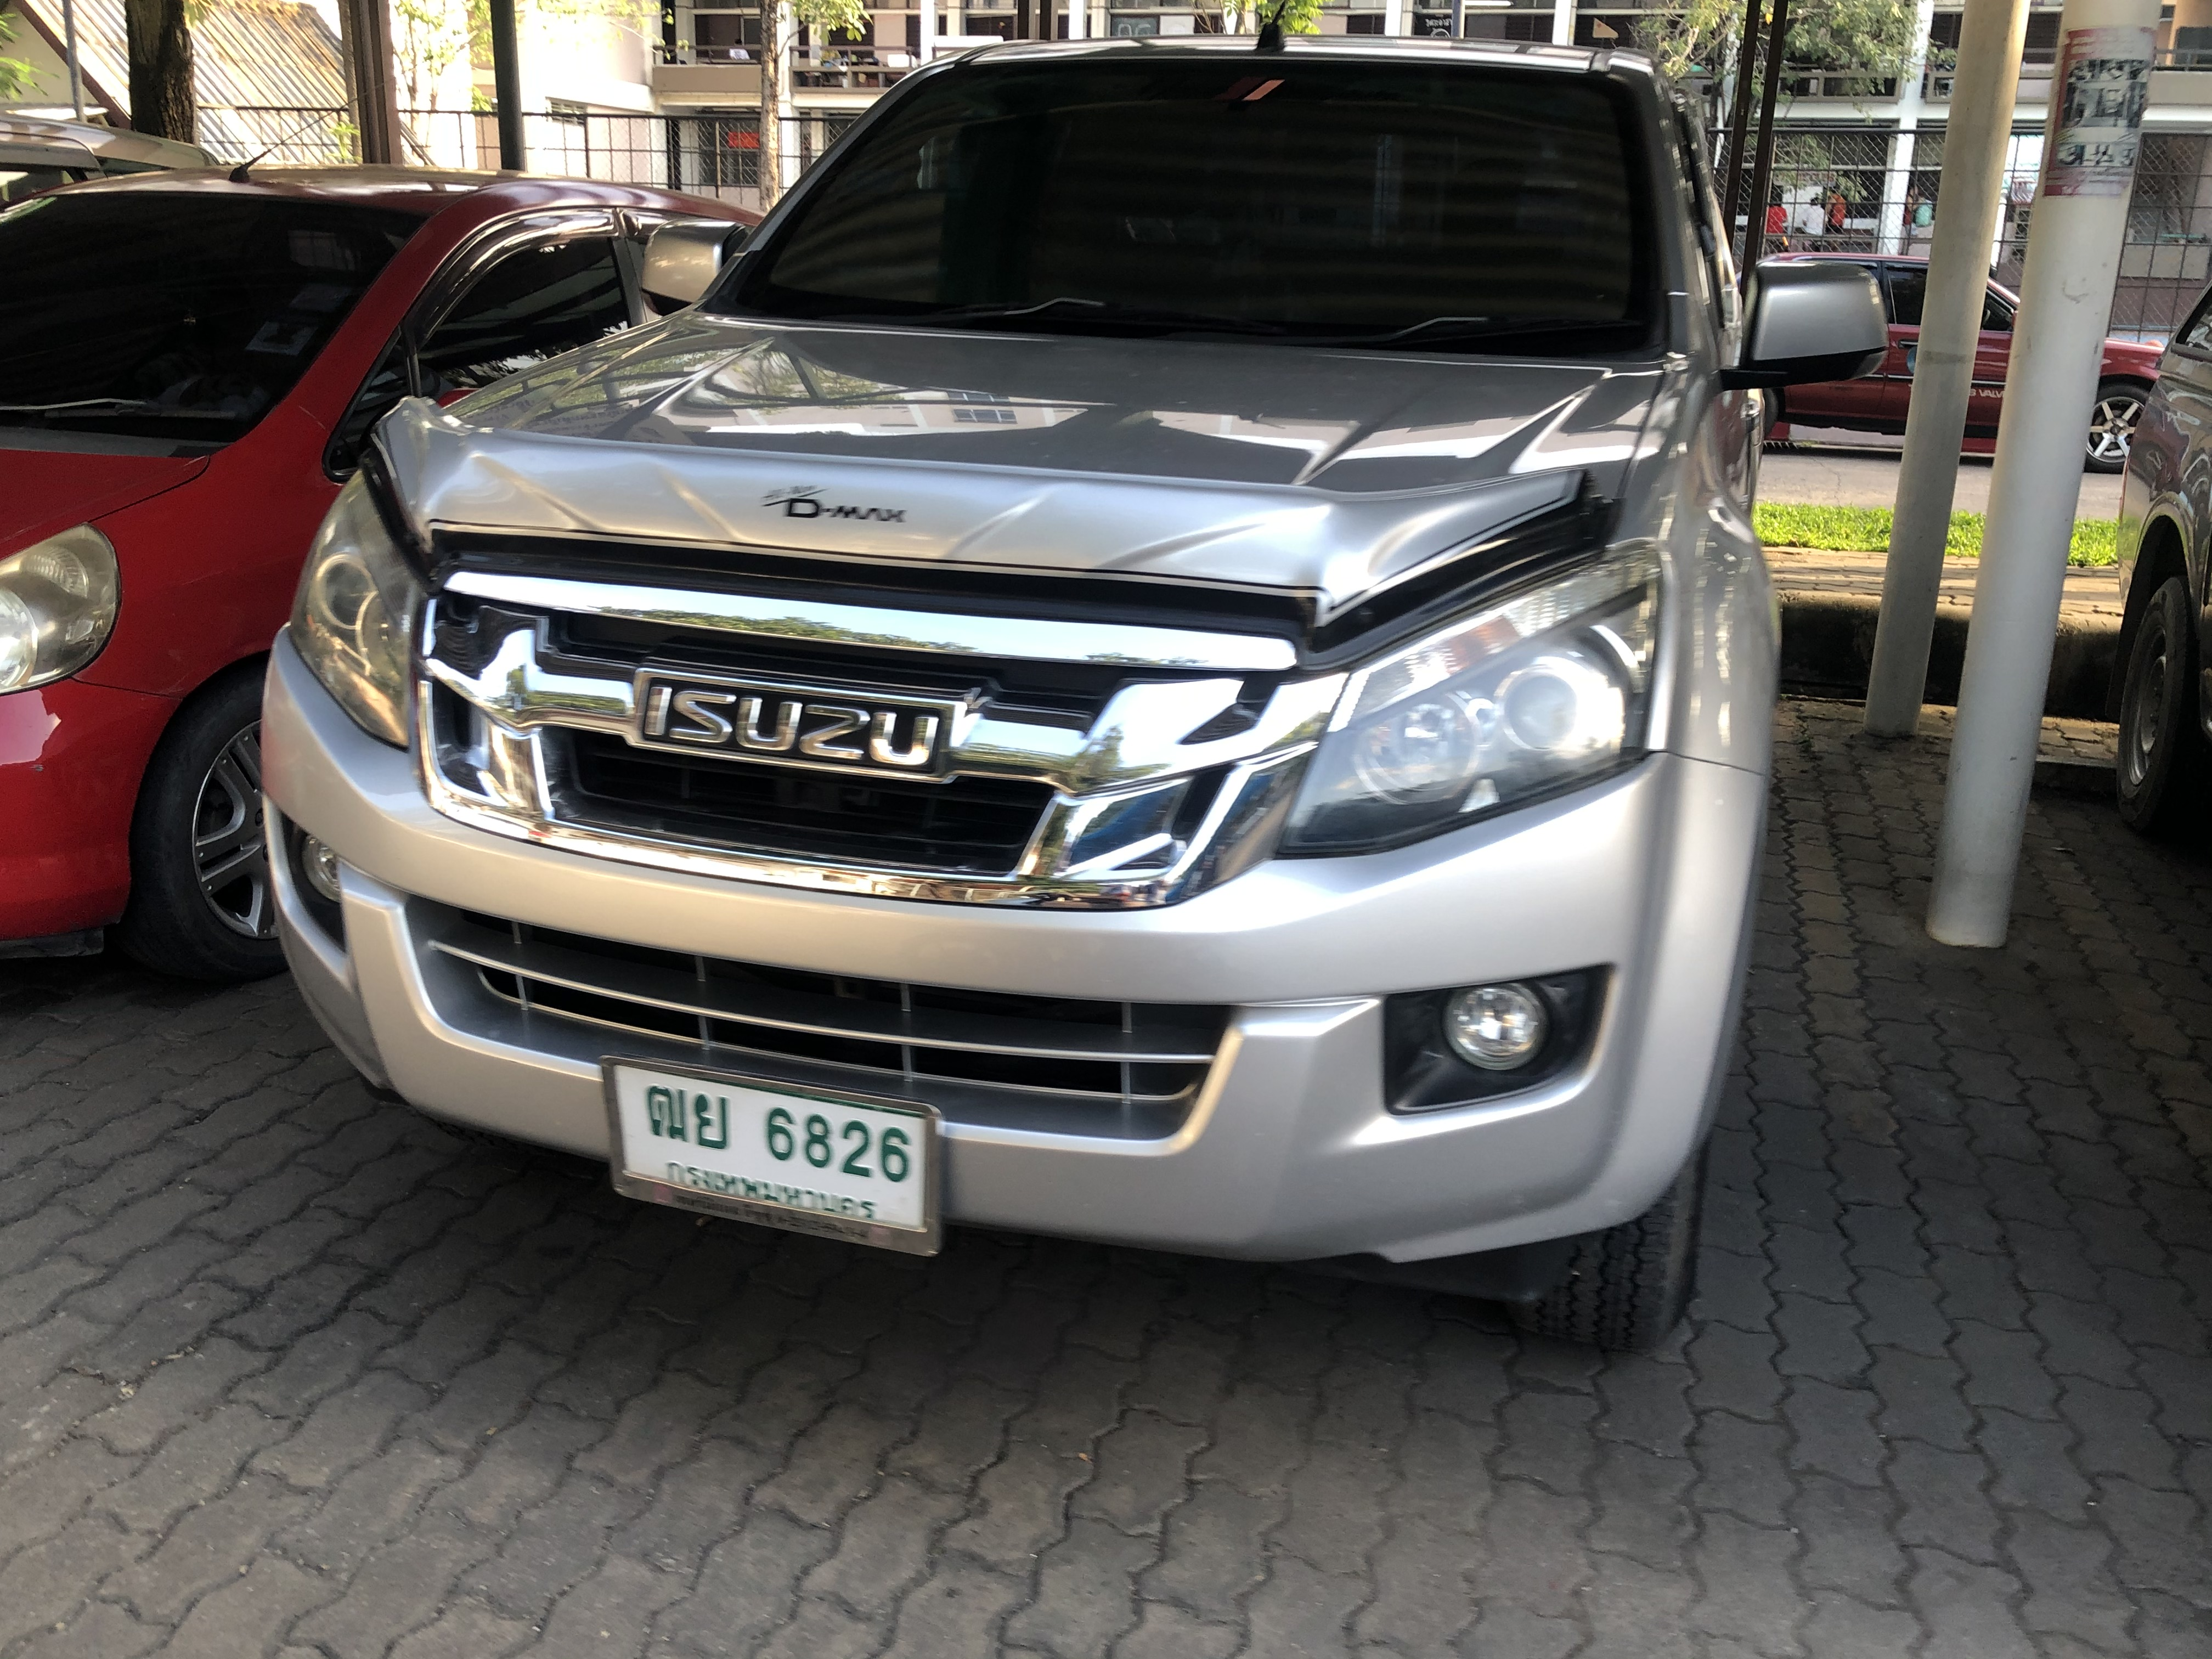in: (617, 1068, 928, 1241)
out: (599, 1058, 948, 1255)
